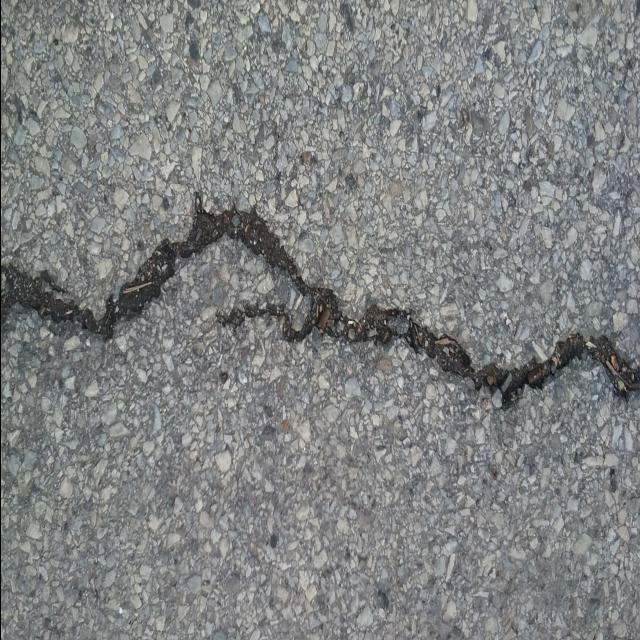Crack: (0, 189, 640, 403)
